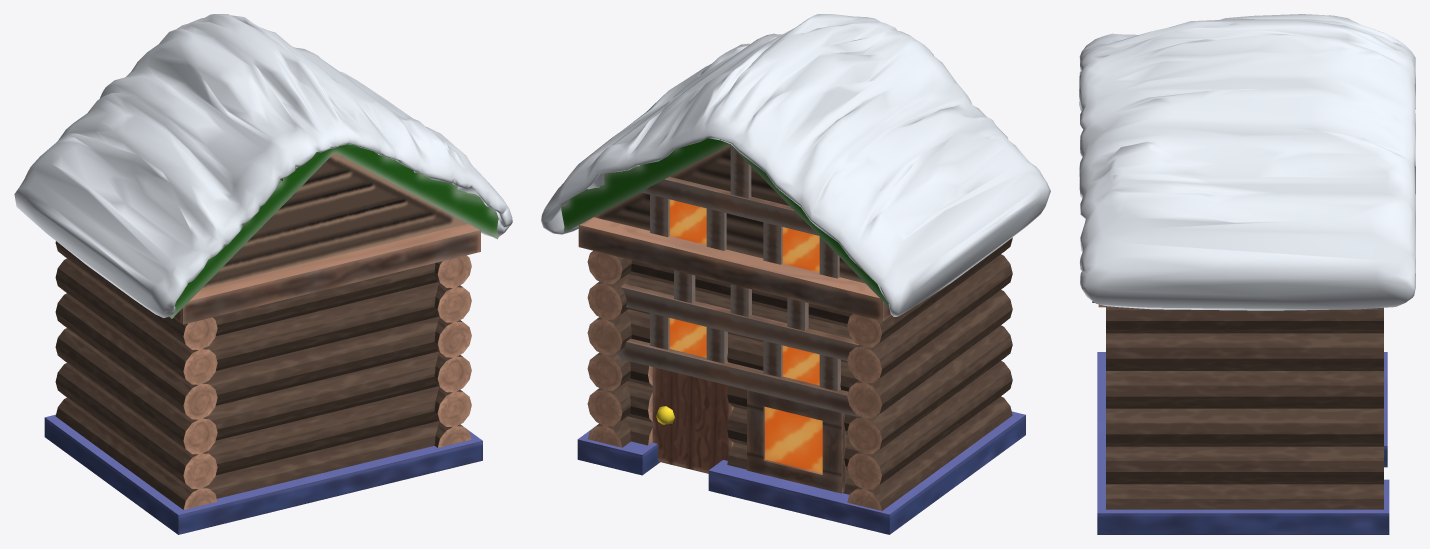
File: cabin_2.glb
3 renders of one model, left to right at view 1: azimuth 30°, elevation 25°; view 2: azimuth 150°, elevation 25°; view 3: azimuth 270°, elevation 25°, orthographic. The views are drawn at different scales.
Visible parts, largest first — view 1: Snow, Wall Back.001, Wall Back.002, Wall Right.001, Top of House.001, Wall Right.002, Base.001, Plank.001, Roof.001, Wall Left.002, Wall Left.001; view 2: Snow, Wall Right.001, Wall Right.002, Base.001, Plank.001, Door, Wall Back.003, Roof.001, Plank.014, Plank.018, Top of House.001, Window Frame.001 (+21 smaller); view 3: Snow, Wall Left.001, Wall Left.002, Base.001.
Part boxes in pixels (x1,y1,x2,y2): Snow: [14, 14, 512, 317]; Wall Back.001: [206, 351, 439, 498]; Wall Back.002: [206, 263, 439, 405]; Wall Right.001: [55, 328, 217, 509]; Top of House.001: [202, 153, 467, 288]; Wall Right.002: [55, 241, 217, 419]; Base.001: [44, 414, 482, 534]; Plank.001: [174, 223, 480, 324]; Roof.001: [169, 144, 498, 318]; Wall Left.002: [434, 255, 471, 357]; Wall Left.001: [434, 352, 471, 447]; Snow: [541, 14, 1050, 316]; Wall Right.001: [847, 325, 1012, 510]; Wall Right.002: [847, 237, 1012, 418]; Base.001: [577, 411, 1025, 534]; Plank.001: [578, 217, 891, 321]; Door: [652, 367, 734, 473]; Wall Back.003: [627, 260, 858, 391]; Roof.001: [561, 138, 889, 307]; Plank.014: [620, 284, 858, 360]; Plank.018: [616, 338, 858, 416]; Top of House.001: [594, 144, 865, 283]; Window Frame.001: [747, 390, 846, 493]; Snow: [1079, 14, 1415, 310]; Wall Left.001: [1106, 408, 1383, 509]; Wall Left.002: [1106, 307, 1383, 408]; Base.001: [1097, 352, 1389, 534].
Size of the model in its own units: 6.37 by 6.91 by 4.85.
10 materials, 9 textured.
